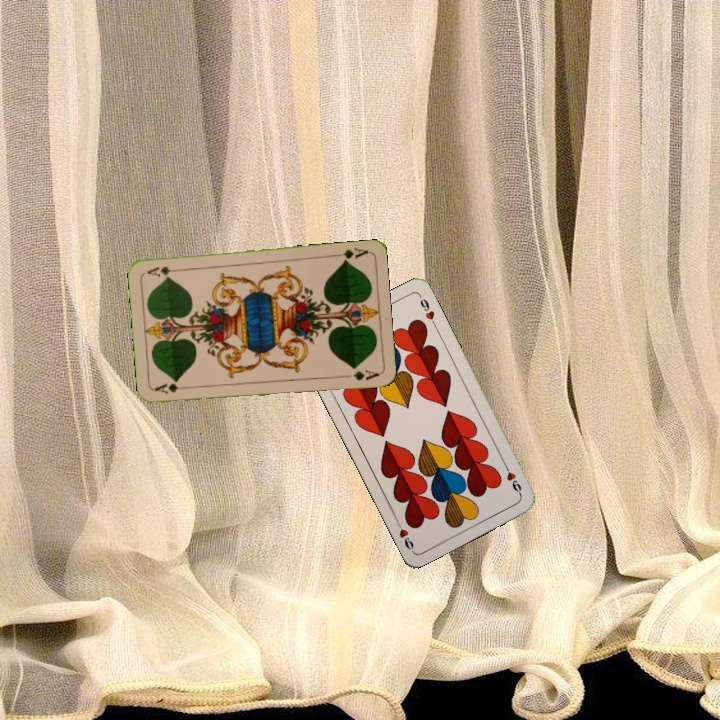GA: (330, 244, 370, 265), (151, 380, 192, 396)
H9: (500, 460, 524, 498)
